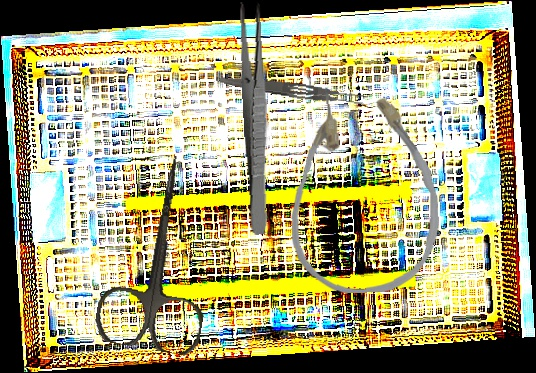Cannula: (286, 83, 442, 296)
Dressing Forceps: (237, 1, 274, 235), (218, 73, 369, 109)
Iris Scissors: (91, 147, 231, 358)
